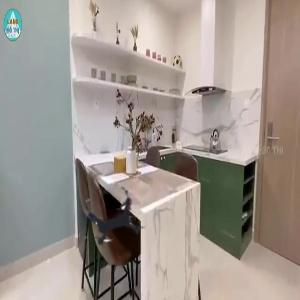drone: (53, 164, 172, 283)
